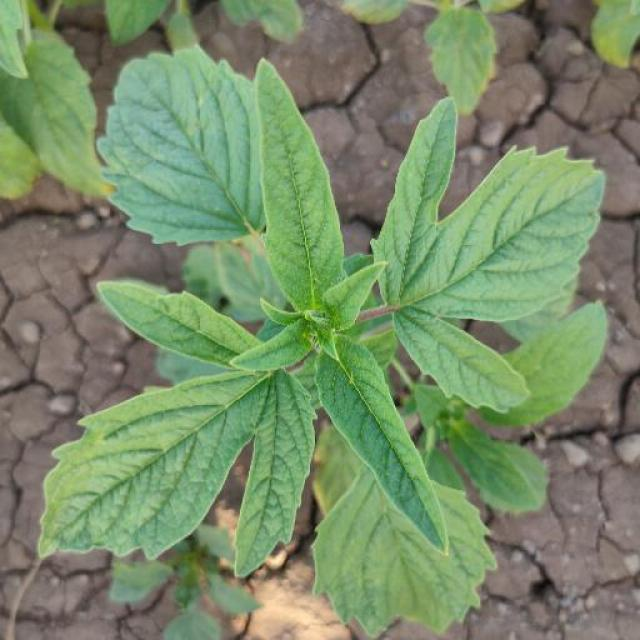crop: (40, 50, 606, 605)
